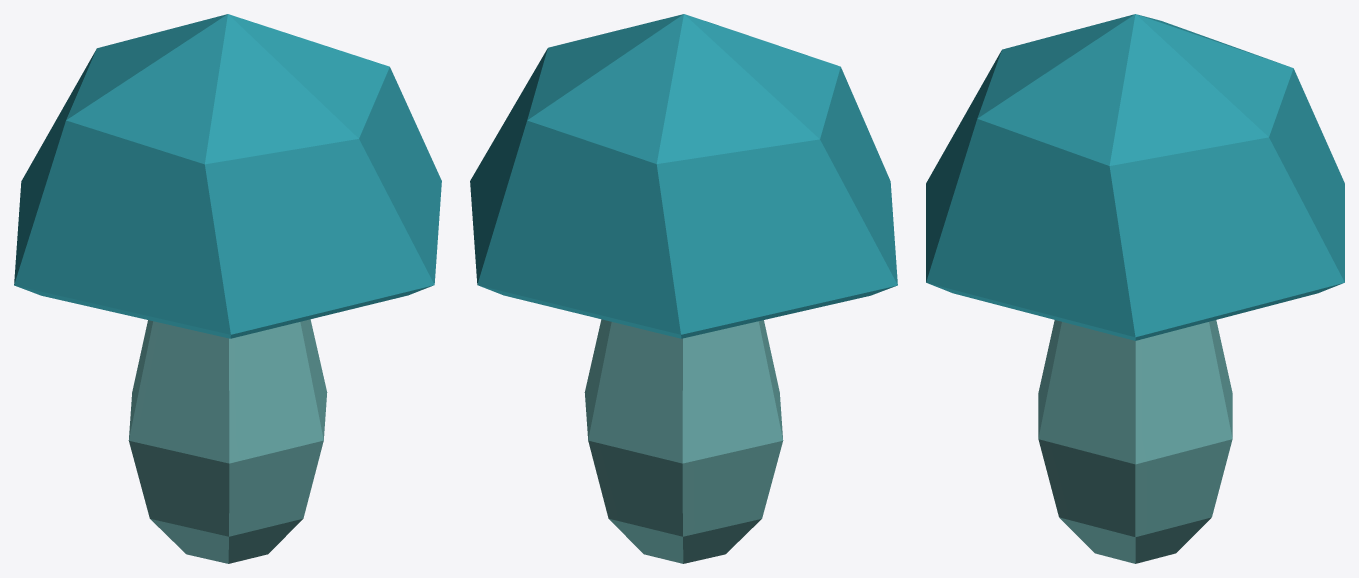
The model's file is Mushroom-B05.fbx.
3 views of the same model, side by side, from view 1: azimuth 30°, elevation 25°; view 2: azimuth 150°, elevation 25°; view 3: azimuth 270°, elevation 25° (orthographic).
Parts seen in each view (by area): view 1: Mushroom-B05; view 2: Mushroom-B05; view 3: Mushroom-B05.
Boxes of the visible parts, x1,y1,x2,y2 form: Mushroom-B05: [14, 14, 441, 563]; Mushroom-B05: [470, 14, 897, 563]; Mushroom-B05: [926, 14, 1344, 563].
Bounding box in the file's own units: 71.62 × 84.8 × 60.77.
